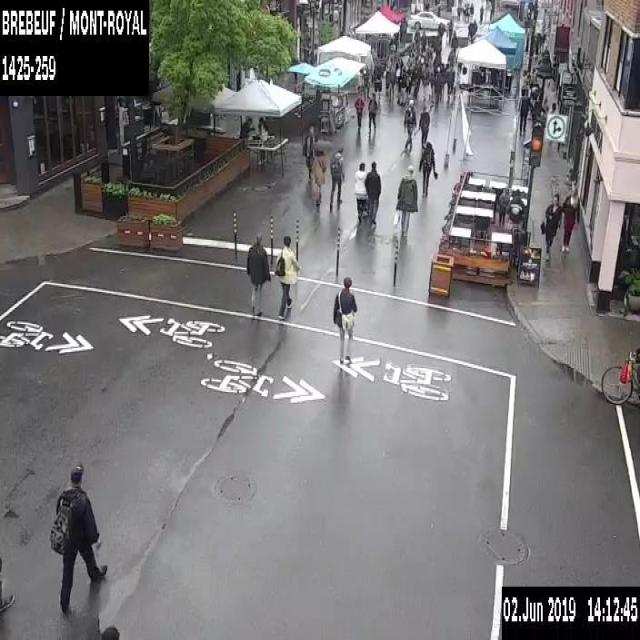cyclist: (601, 338, 639, 404)
pedestrian: (49, 464, 106, 613), (274, 233, 301, 319), (331, 275, 356, 361), (245, 234, 270, 314), (394, 164, 416, 235), (540, 193, 561, 261), (562, 183, 582, 251), (328, 145, 345, 211), (418, 140, 438, 196), (366, 160, 381, 227), (352, 159, 367, 225), (508, 186, 525, 238), (302, 130, 316, 182), (312, 144, 323, 207), (518, 89, 532, 132), (403, 96, 414, 150), (417, 104, 431, 146), (371, 59, 384, 101), (498, 184, 509, 225), (258, 115, 267, 164), (444, 61, 454, 101), (238, 116, 254, 140), (366, 94, 376, 131), (433, 64, 441, 106), (354, 95, 363, 130), (450, 29, 457, 52), (413, 28, 420, 48), (420, 30, 426, 51), (469, 1, 473, 22)
vehicle: (405, 8, 450, 31)
